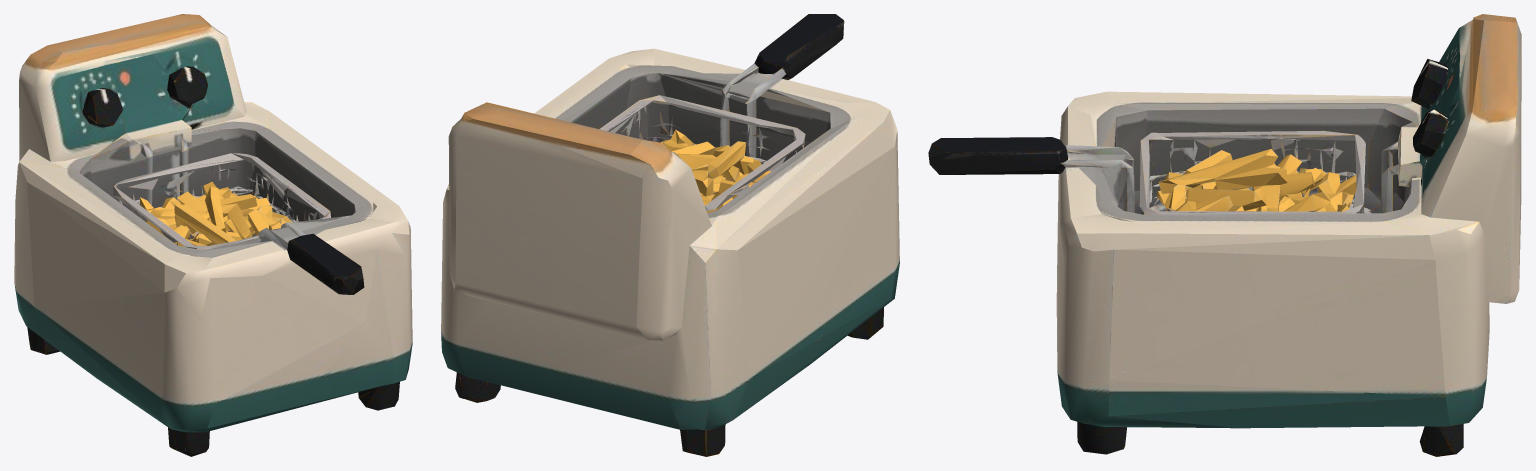
The model's file is rounded-restaurant-countertop-fryer-basket-food-loaded.glb.
The picture shows the model from 3 angles, left to right: view 1: azimuth 30°, elevation 25°; view 2: azimuth 150°, elevation 25°; view 3: azimuth 270°, elevation 25°; orthographic projection. The views are drawn at different scales.
Visible parts, largest first — view 1: Mesh_0; view 2: Mesh_0; view 3: Mesh_0.
Part boxes in pixels (bbox=[...]): Mesh_0: bbox=[14, 14, 412, 456]; Mesh_0: bbox=[441, 14, 899, 456]; Mesh_0: bbox=[928, 14, 1521, 456].
Size of the model in its own units: 0.3813 by 0.4038 by 0.65.
1 material, 1 textured.
